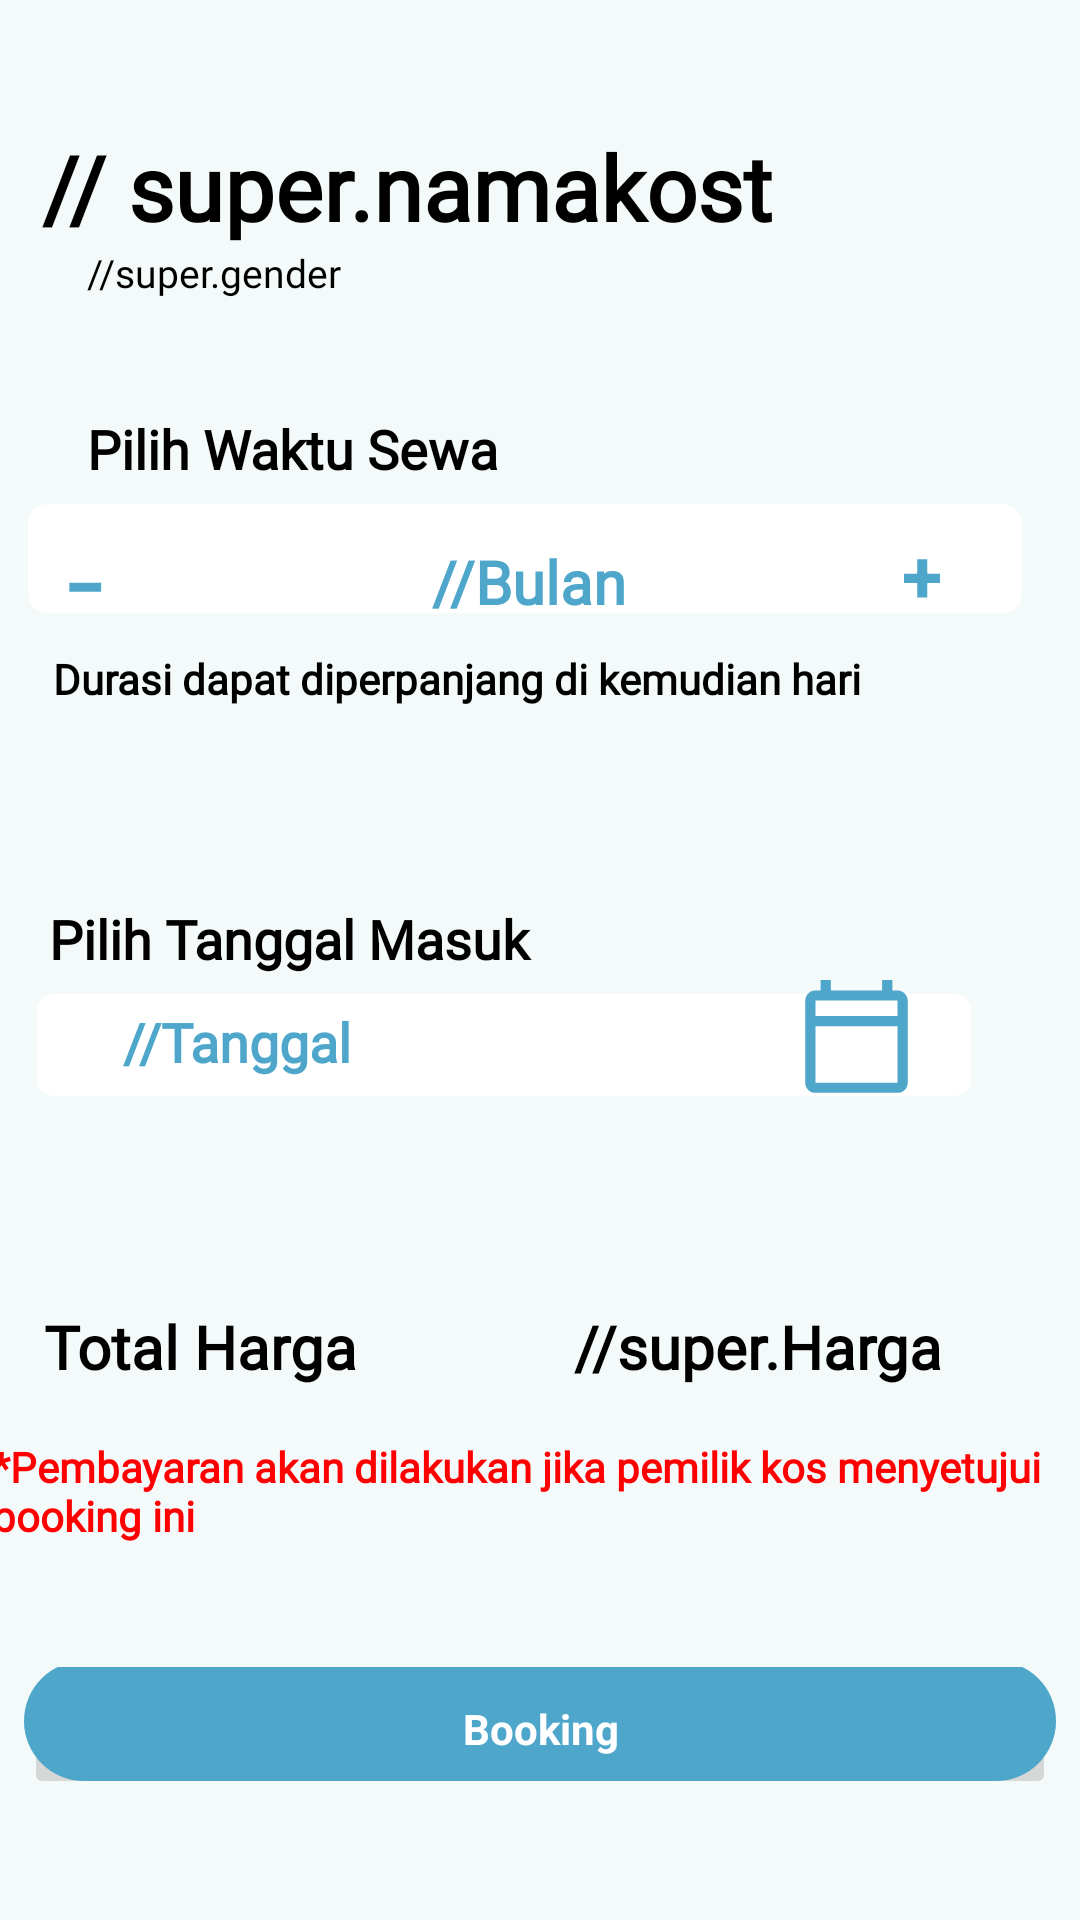

Icon bounding boxes for this 1080 × 1920 phone screenshot, format (x1, y1, x2, y2):
calendar: (795, 980, 918, 1096)
